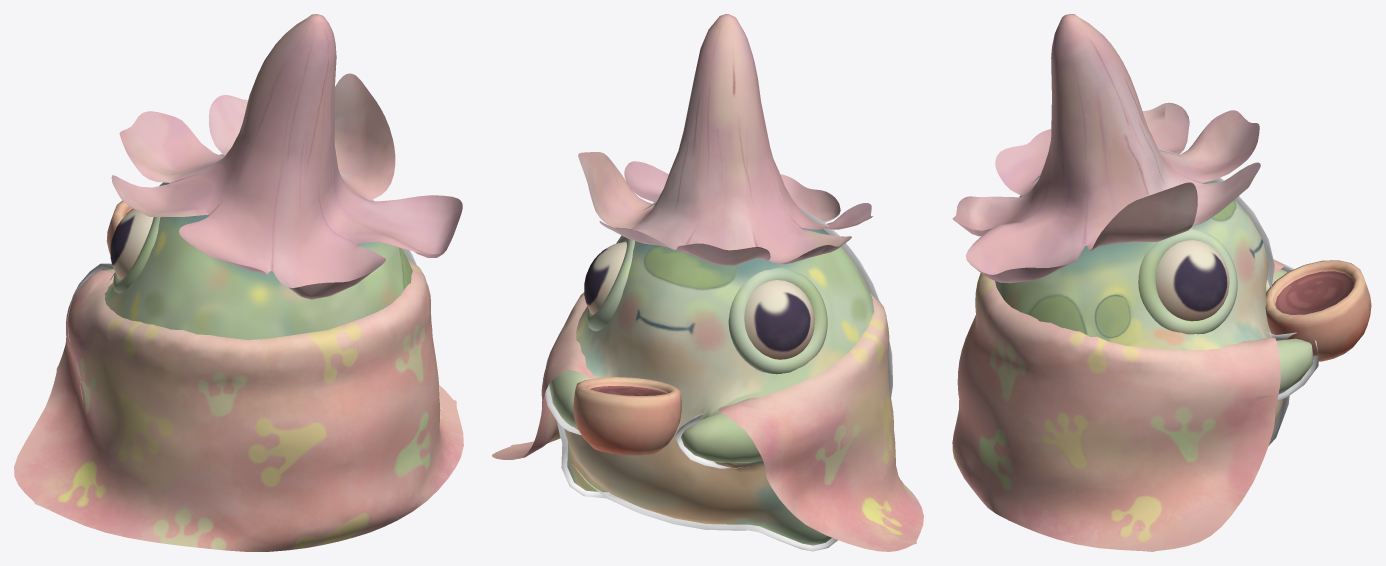
The model's file is player.glb.
3 views of the same model, side by side, from view 1: azimuth 30°, elevation 25°; view 2: azimuth 150°, elevation 25°; view 3: azimuth 270°, elevation 25° (orthographic). The views are drawn at different scales.
Parts seen in each view (by area): view 1: cape.006, hat.006, frog.006, eyes.006, eyerings.006; view 2: frog.006, hat.006, cape.006, cup.006, eyes.006, eyerings.006, frog_outline_strokes.001; view 3: cape.006, hat.006, frog.006, cup.006, eyes.006, eyerings.006, frog_outline_strokes.001.
Part boxes in pixels (x1=…): cape.006: x1=14, y1=261, x2=463, y2=551; hat.006: x1=111, y1=14, x2=462, y2=299; frog.006: x1=102, y1=214, x2=412, y2=339; eyes.006: x1=110, y1=209, x2=153, y2=279; eyerings.006: x1=113, y1=217, x2=160, y2=293; frog.006: x1=549, y1=228, x2=874, y2=545; hat.006: x1=578, y1=14, x2=872, y2=265; cape.006: x1=492, y1=292, x2=923, y2=551; cup.006: x1=573, y1=377, x2=681, y2=455; eyes.006: x1=584, y1=242, x2=814, y2=359; eyerings.006: x1=586, y1=236, x2=827, y2=374; frog_outline_strokes.001: x1=543, y1=200, x2=892, y2=551; cape.006: x1=952, y1=259, x2=1284, y2=551; hat.006: x1=952, y1=14, x2=1260, y2=283; frog.006: x1=995, y1=180, x2=1313, y2=425; cup.006: x1=1265, y1=260, x2=1371, y2=361; eyes.006: x1=1155, y1=240, x2=1229, y2=321; eyerings.006: x1=1138, y1=229, x2=1237, y2=334; frog_outline_strokes.001: x1=1019, y1=149, x2=1318, y2=445.
Bounding box in the file's own units: 1.08 × 1.18 × 0.9531.
5 materials, 4 textured.
